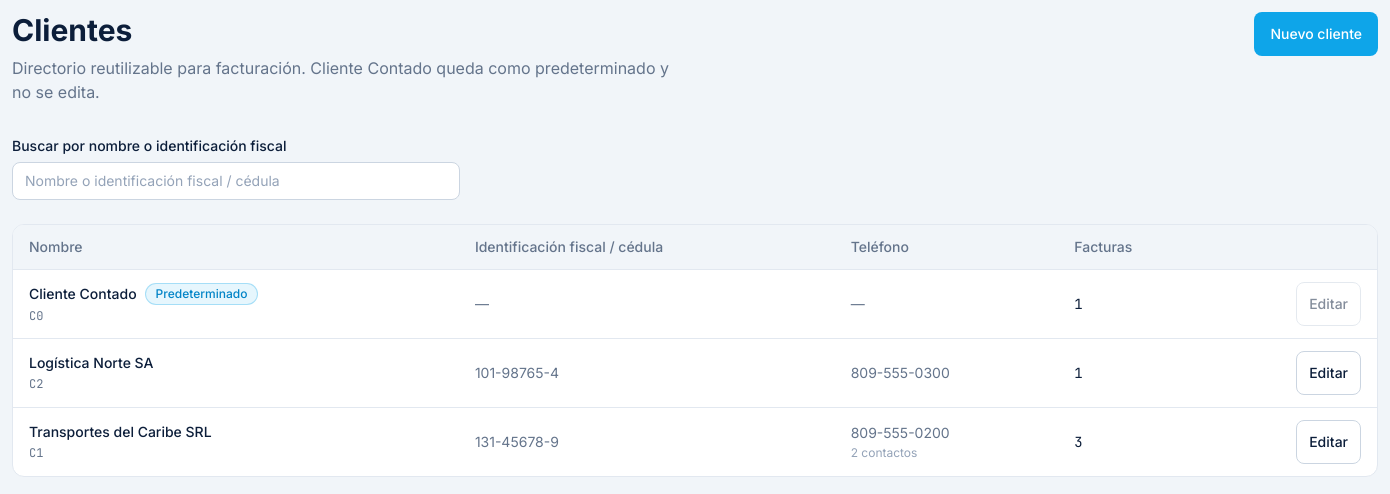
Test case: CustomersPage › loads the customer directory and filters by name or RNC
Expected: the text "Transportes del Caribe SRL" is shown, [29,422,212,442]
In the search field labelled "Buscar por nombre o identificación fiscal": (236, 181) [12,162,460,200], type "101-98765"
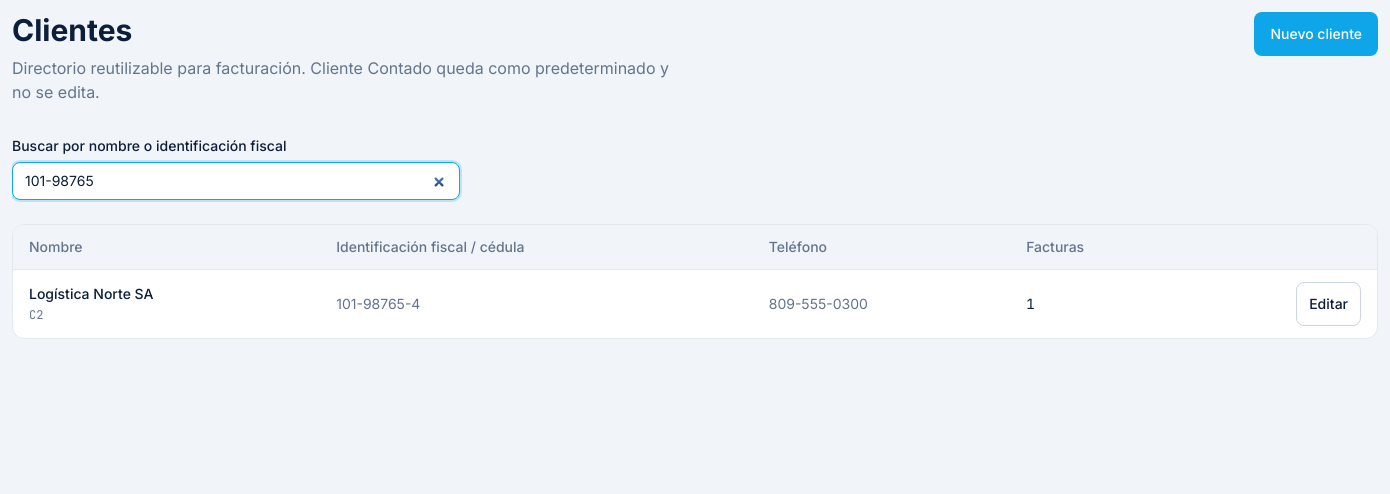
Expected: the text "Logística Norte SA" is shown, [29,284,154,304]
Expected: the text "Transportes del Caribe SRL" is gone
